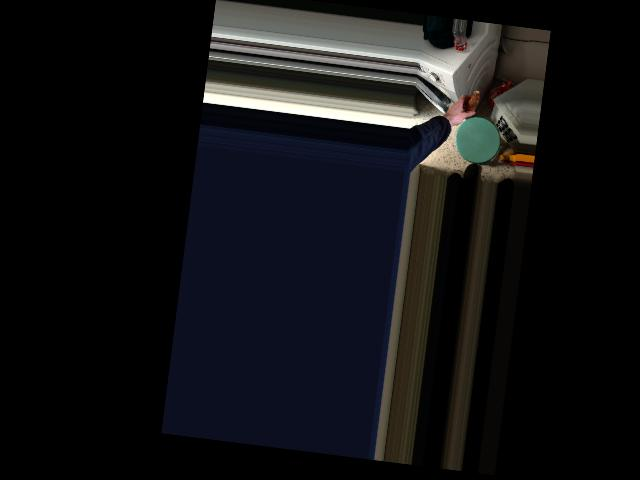sweet_potato: (455, 88, 479, 127)
